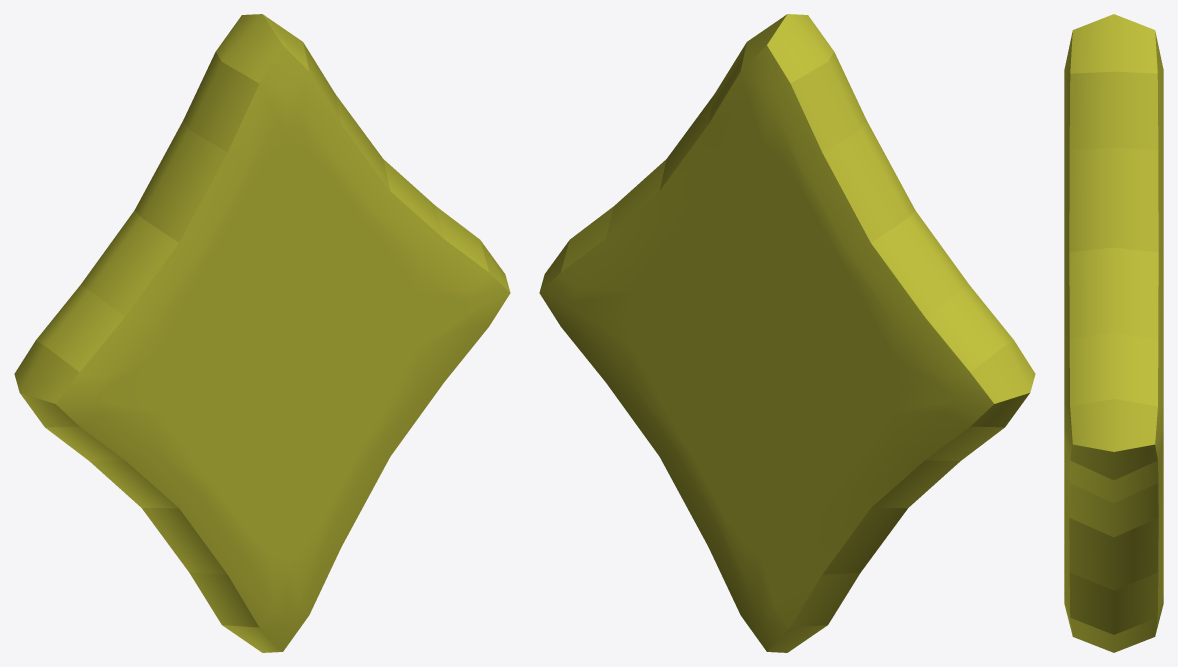
The model's file is dia_02.fbx.
3 renders of one model, left to right at view 1: azimuth 30°, elevation 25°; view 2: azimuth 150°, elevation 25°; view 3: azimuth 270°, elevation 25°, orthographic.
Parts seen in each view (by area): view 1: diamond; view 2: diamond; view 3: diamond.
Part boxes in pixels (left/top/right/bottom): diamond: left=14, top=14, right=510, bottom=652; diamond: left=539, top=14, right=1035, bottom=652; diamond: left=1064, top=14, right=1163, bottom=652.
Size of the model in its own units: 1.69 by 2.13 by 0.3.
